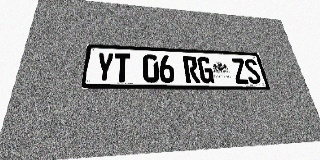0: (143, 54, 159, 83)
6: (158, 55, 175, 83)
G: (197, 56, 215, 83)
R: (183, 56, 200, 83)
S: (243, 59, 262, 84)
T: (113, 53, 131, 82)
Y: (95, 52, 114, 82)
Z: (231, 58, 249, 84)
